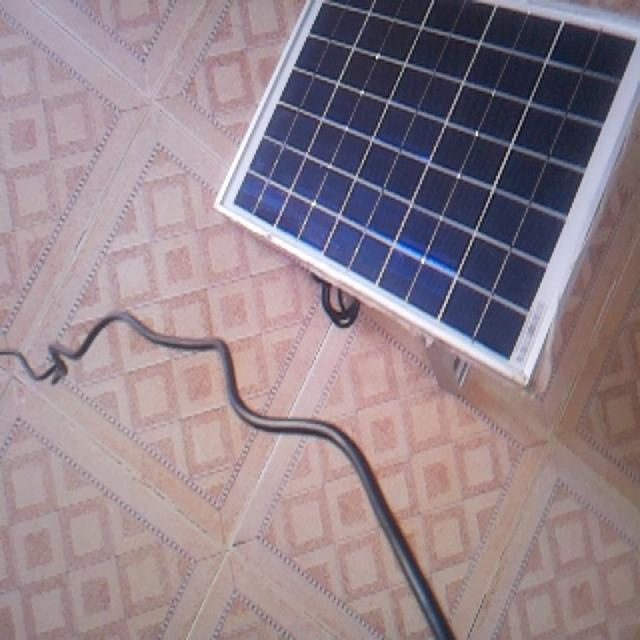Normal Solar Panel: (216, 0, 640, 387)
